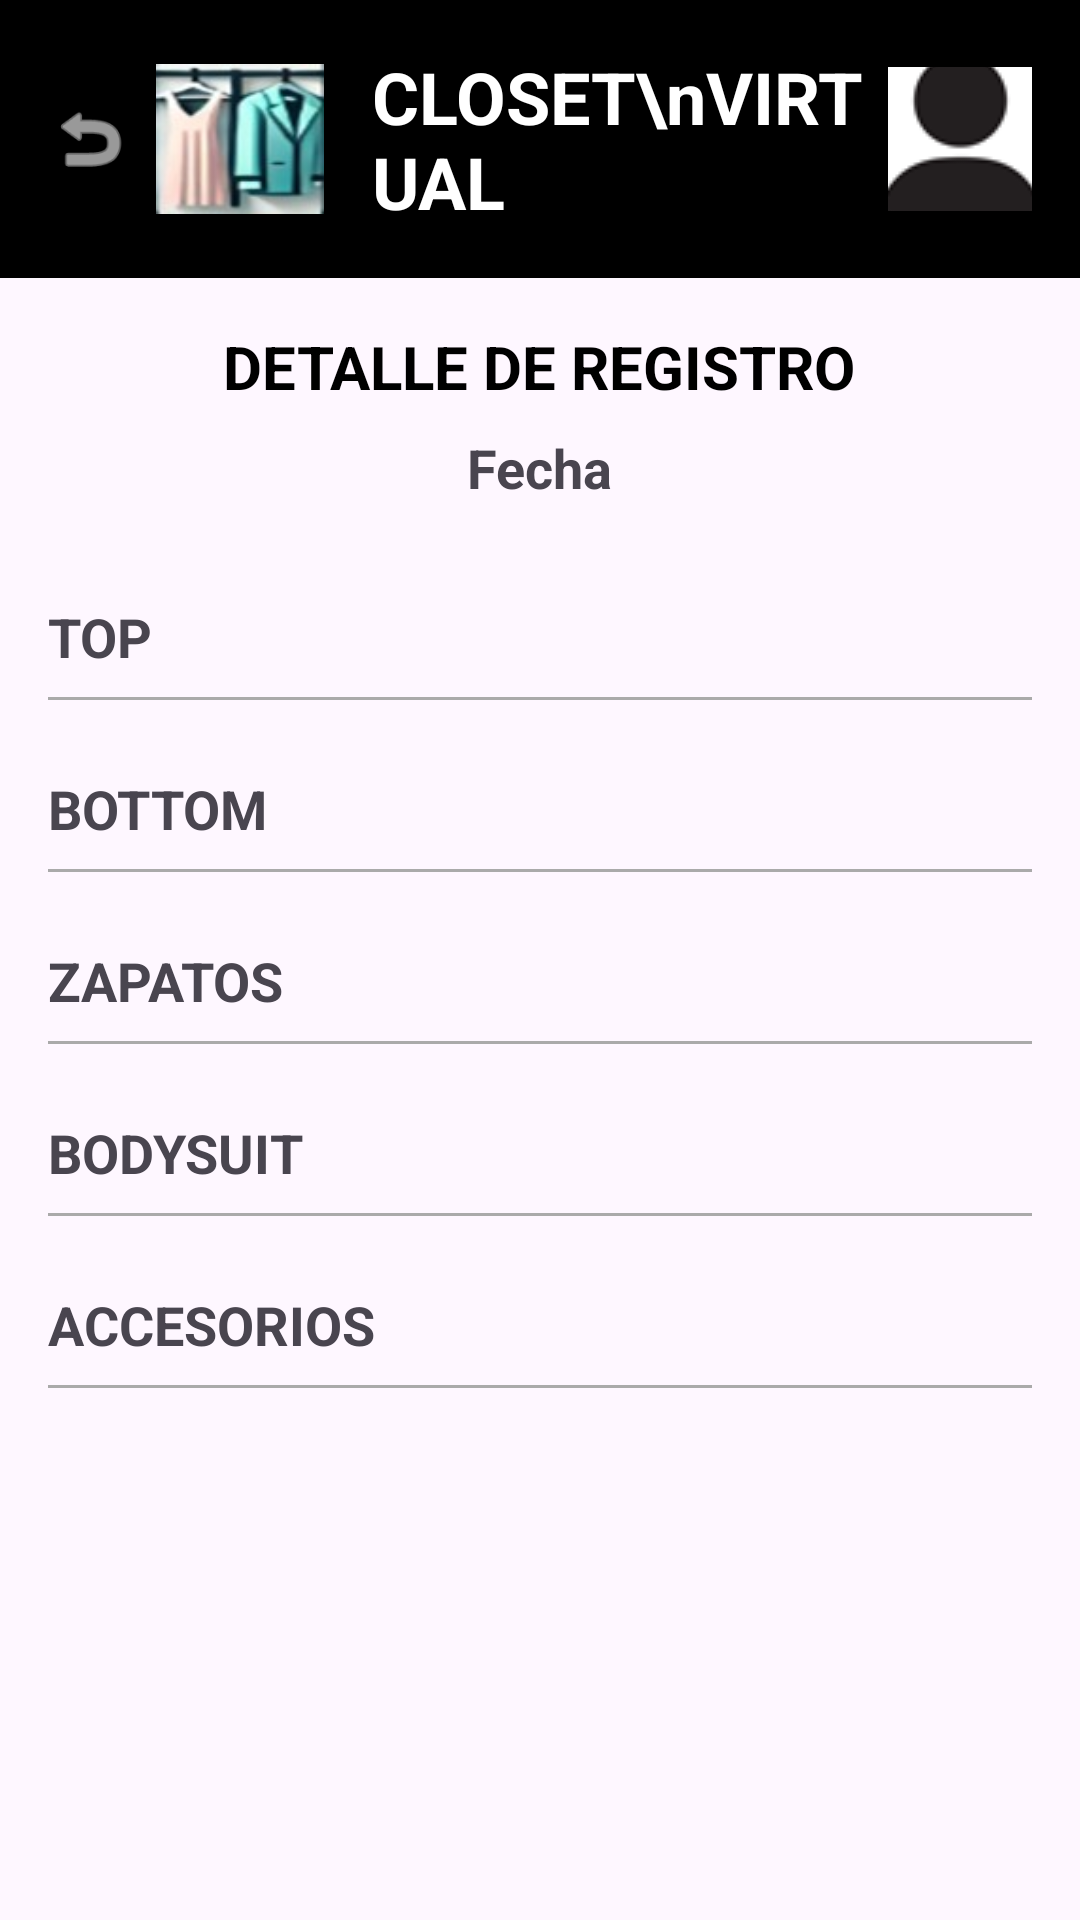

Icons on this 1080px×1920px Android screen, each with the point to tap as [x,y]:
User Profile: [960,139]
Volver: [91,139]
